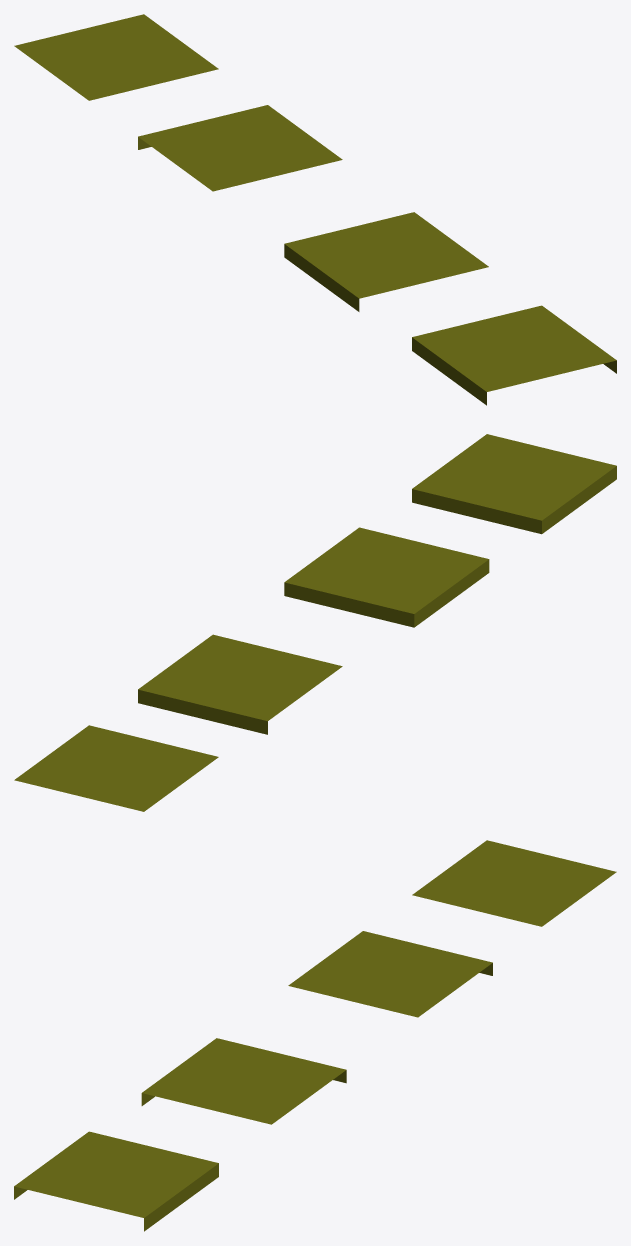
File: ground.glb
The picture shows the model from 3 angles, top to bottom: view 1: azimuth 30°, elevation 25°; view 2: azimuth 150°, elevation 25°; view 3: azimuth 330°, elevation 25°; orthographic projection.
Parts seen in each view (by area): view 1: groundLeftBottomTop, groundLeftBottom, groundLeft, groundZero; view 2: groundLeftBottom, groundLeftBottomTop, groundLeft, groundZero; view 3: groundLeftBottomTop, groundLeftBottom, groundLeft, groundZero.
Boxes of the visible parts, bbox=[...] form: groundLeftBottomTop: bbox=[412, 305, 616, 405]; groundLeftBottom: bbox=[284, 212, 488, 311]; groundLeft: bbox=[138, 105, 342, 191]; groundZero: bbox=[14, 14, 218, 100]; groundLeftBottom: bbox=[284, 527, 489, 627]; groundLeftBottomTop: bbox=[412, 434, 616, 534]; groundLeft: bbox=[138, 634, 342, 734]; groundZero: bbox=[14, 725, 218, 811]; groundLeftBottomTop: bbox=[14, 1131, 218, 1231]; groundLeftBottom: bbox=[141, 1038, 346, 1124]; groundLeft: bbox=[288, 931, 492, 1017]; groundZero: bbox=[412, 840, 616, 926].
Size of the model in its own units: 20 by 2 by 126.
